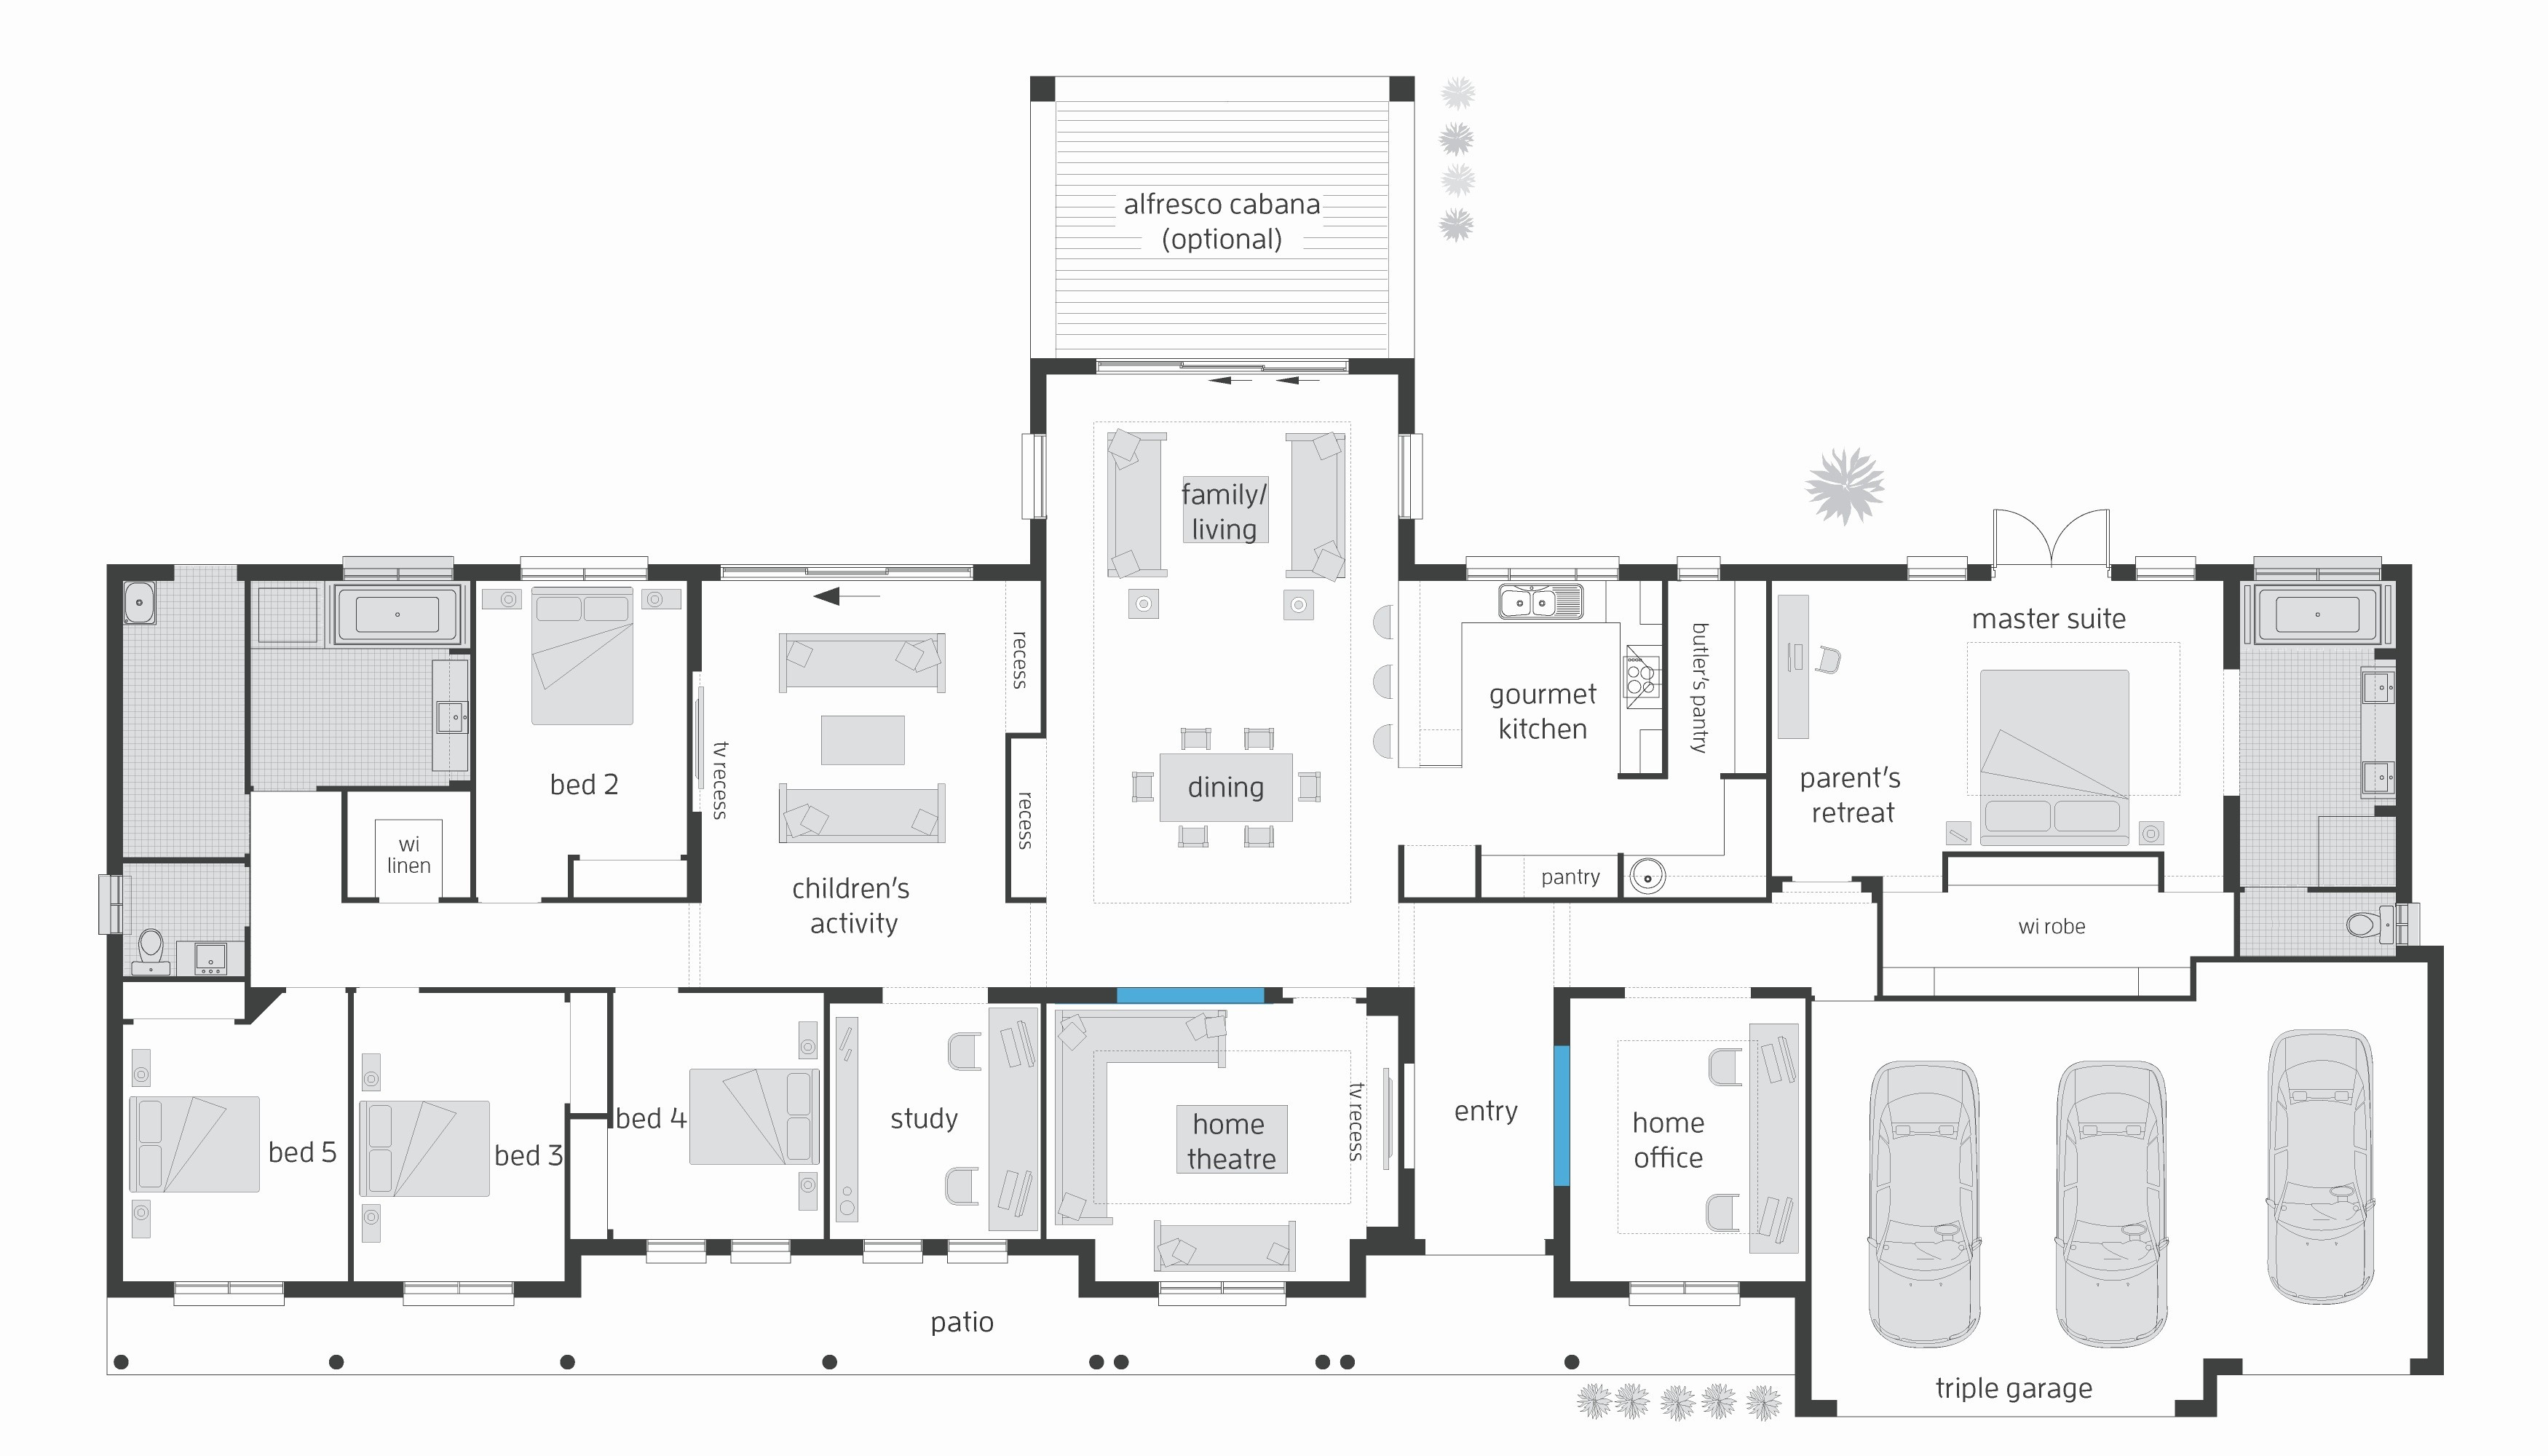window: (1465, 555, 1620, 583), (518, 553, 649, 583), (1155, 1281, 1288, 1309), (338, 551, 455, 583), (399, 1277, 514, 1307), (173, 1279, 287, 1309), (1626, 1283, 1743, 1309), (1395, 434, 1424, 521), (1020, 432, 1048, 523), (2133, 555, 2200, 583), (945, 1237, 1010, 1265), (646, 1239, 710, 1265), (728, 1239, 793, 1265), (861, 1239, 926, 1265), (1906, 556, 1969, 581), (1675, 555, 1722, 579)
